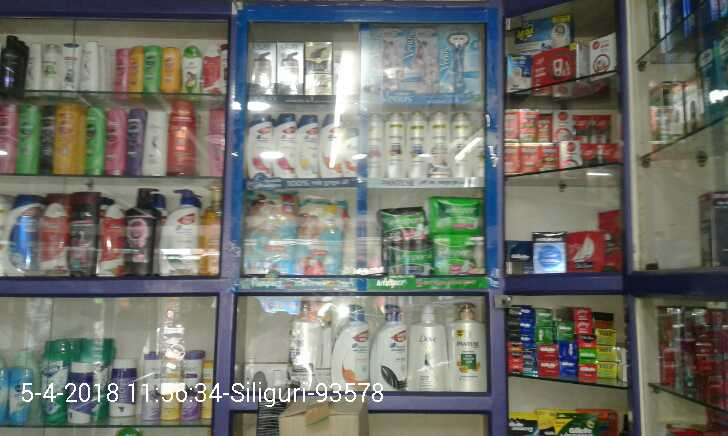venus: (440, 27, 480, 95), (368, 28, 402, 96), (403, 28, 438, 94)
